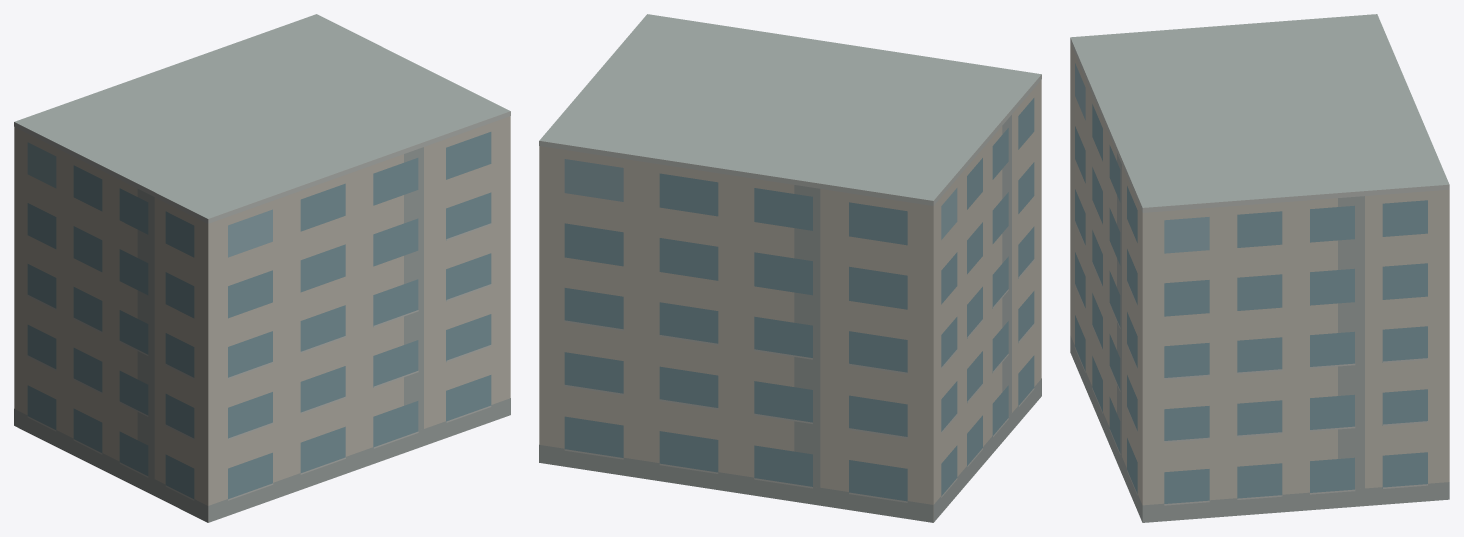
The model's file is residential-a4026710-369f-45ef-9e1f-7a54b9caf551.glb.
3 views of the same model, side by side, from view 1: azimuth 30°, elevation 25°; view 2: azimuth 150°, elevation 25°; view 3: azimuth 270°, elevation 25° (orthographic). The views are drawn at different scales.
Parts seen in each view (by area): view 1: residential-a4026710-369f-45ef-9e1f-7a54b9caf551.tmp; view 2: residential-a4026710-369f-45ef-9e1f-7a54b9caf551.tmp; view 3: residential-a4026710-369f-45ef-9e1f-7a54b9caf551.tmp.
Boxes of the visible parts, left/top/right/bottom form: residential-a4026710-369f-45ef-9e1f-7a54b9caf551.tmp: left=14, top=14, right=510, bottom=522; residential-a4026710-369f-45ef-9e1f-7a54b9caf551.tmp: left=539, top=14, right=1041, bottom=522; residential-a4026710-369f-45ef-9e1f-7a54b9caf551.tmp: left=1070, top=14, right=1449, bottom=522.
Bounding box in the file's own units: 20.15 × 15.25 × 16.65.
